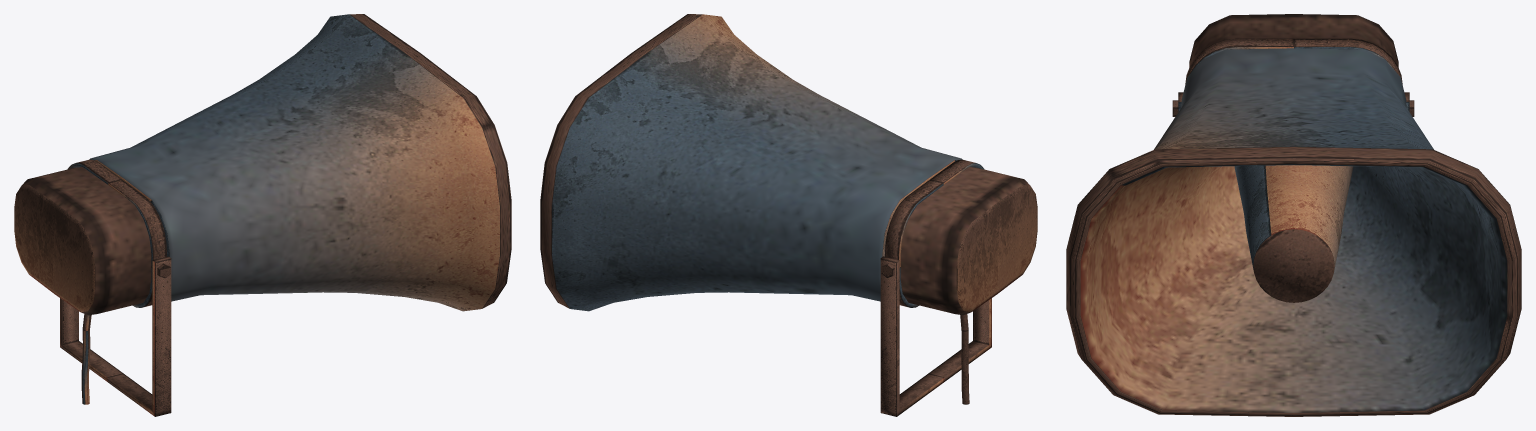
Rendered from Speaker.fbx.
The picture shows the model from 3 angles, left to right: view 1: azimuth 30°, elevation 25°; view 2: azimuth 150°, elevation 25°; view 3: azimuth 270°, elevation 25°; orthographic projection. The views are drawn at different scales.
Visible parts, largest first — view 1: Speaker; view 2: Speaker; view 3: Speaker.
Boxes of the visible parts, box(x1,y1,x2,y2) form: Speaker: box(14, 14, 511, 416); Speaker: box(540, 14, 1037, 416); Speaker: box(1066, 14, 1521, 416).
Size of the model in its own units: 0.7481 by 0.5261 by 0.6589.
